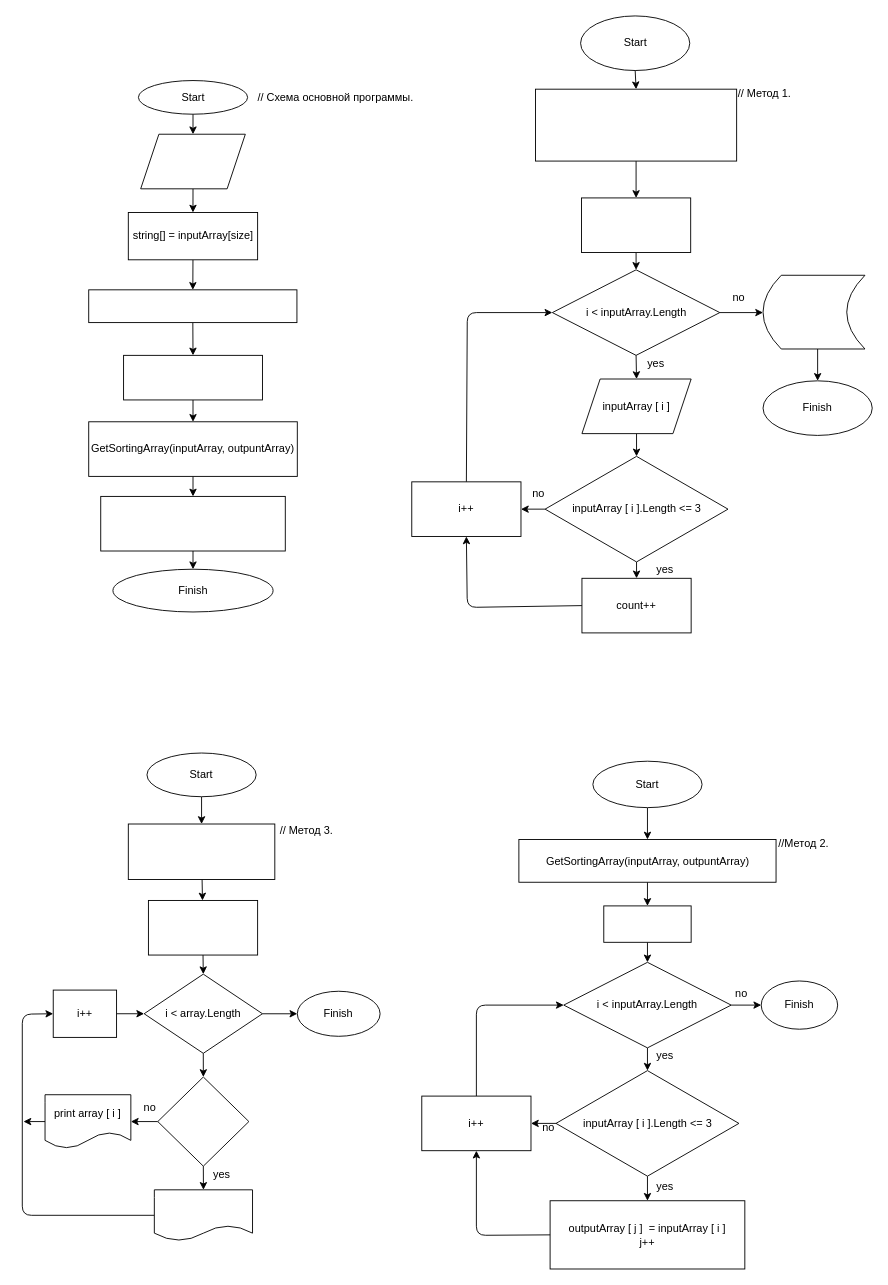
Some shapes in this 888 by 1285 pixel diagram are drawn without their labels. The shapes that lost their labels are listed below. From the top down, each one's centre as x and y in pixels, then its label:
the point at 636,124: int GetArrayFilling(inputArray)
the point at 192,161: size
the point at 636,225: int count = 0 int i = 0
the point at 192,306: int count = GetArrayFilling(inputArray)
the point at 813,311: return count
the point at 192,377: string[] = outputArray[count]
the point at 192,523: PrintArray (inputArray, outpunt Array)
the point at 201,851: PrintArray(string [ ] array)
the point at 203,927: int i = 0
the point at 647,923: int i = 0 int j = 0
the point at 203,1121: i > 0
the point at 203,1215: print " ; "
